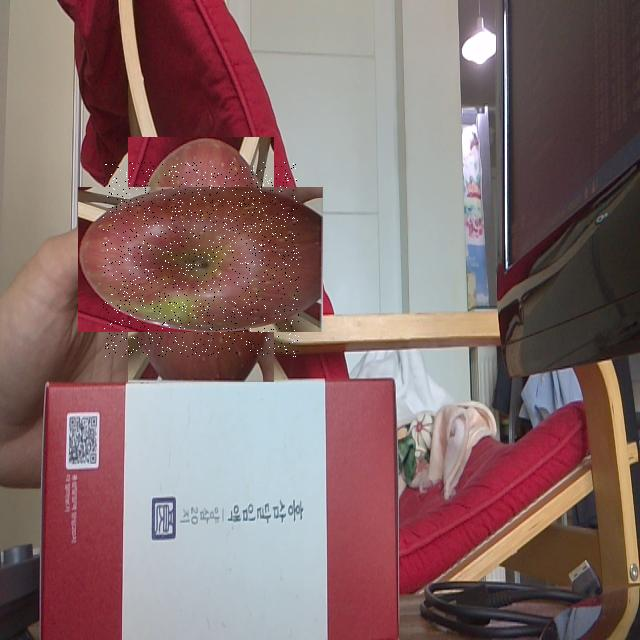apple: (103, 162, 299, 357)
